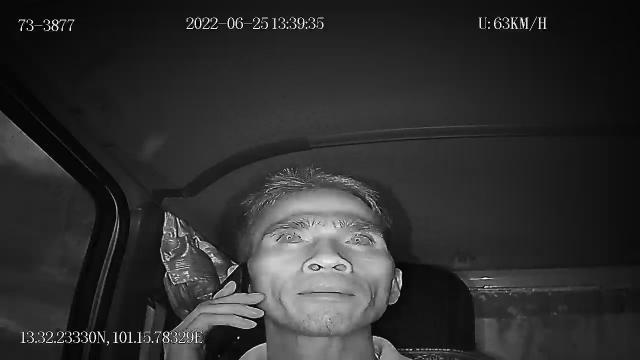PhoneUse: (204, 262, 250, 360)
SafeDriving: (270, 222, 315, 250), (339, 228, 382, 250)
